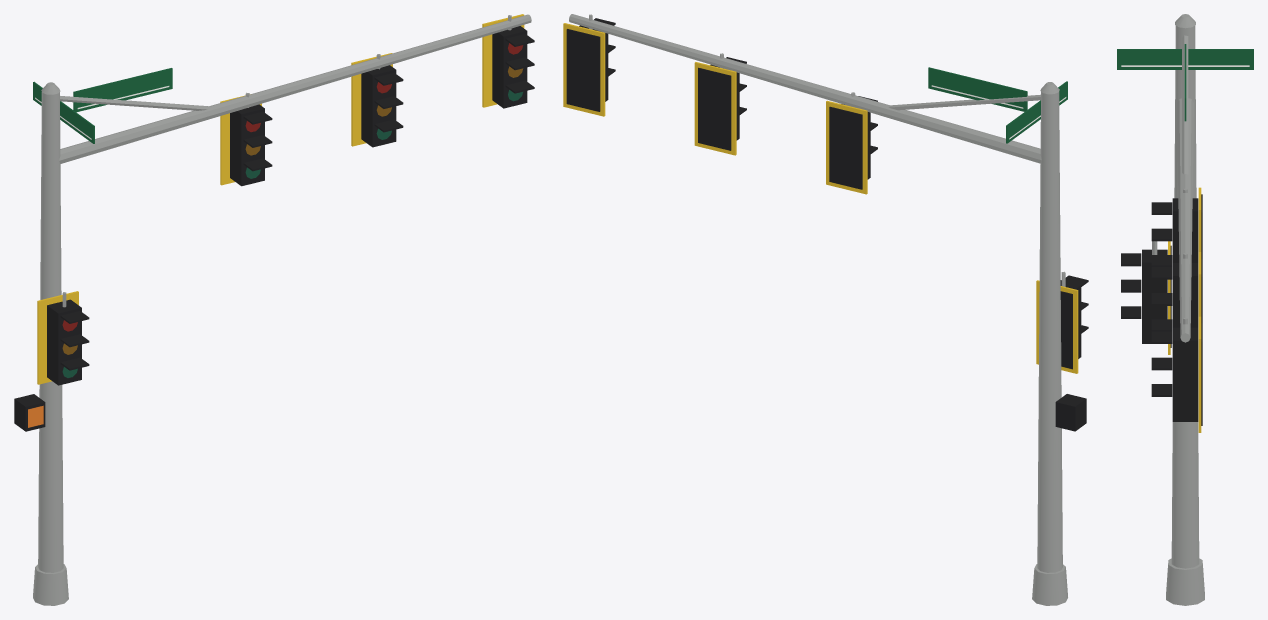
Rendered from seattle_traffic_signal.glb.
3 renders of one model, left to right at view 1: azimuth 30°, elevation 25°; view 2: azimuth 150°, elevation 25°; view 3: azimuth 270°, elevation 25°, orthographic. The views are drawn at different scales.
Visible parts, largest first — view 1: seattle_traffic_signal; view 2: seattle_traffic_signal; view 3: seattle_traffic_signal.
Part boxes in pixels (bbox=[...]): seattle_traffic_signal: bbox=[14, 14, 534, 605]; seattle_traffic_signal: bbox=[563, 14, 1088, 605]; seattle_traffic_signal: bbox=[1117, 14, 1253, 605].
Size of the model in its own units: 7.78 by 7.5 by 1.6.
1 material, 1 textured.
